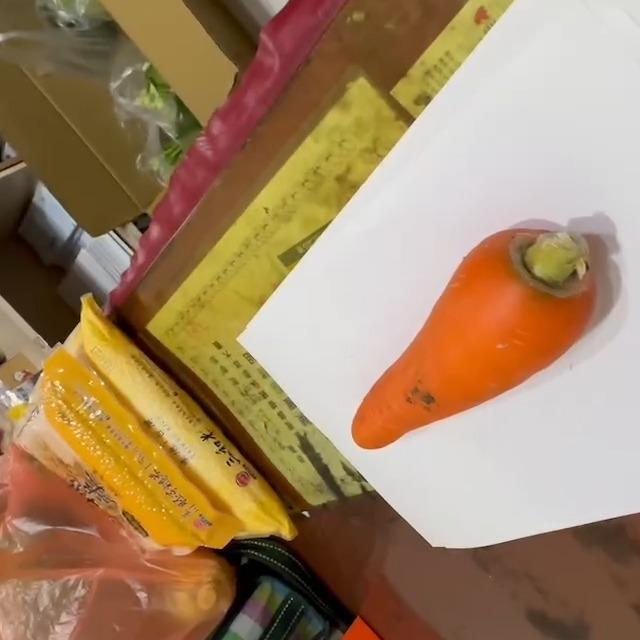carrot: (351, 226, 599, 454)
